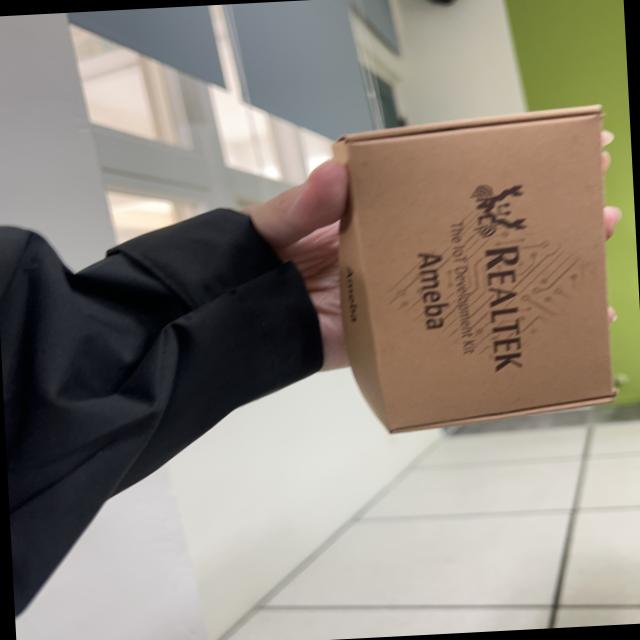box: (295, 110, 640, 455)
